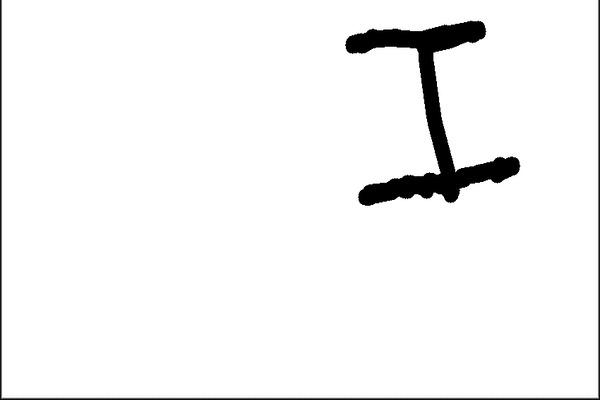i: (336, 22, 530, 213)
